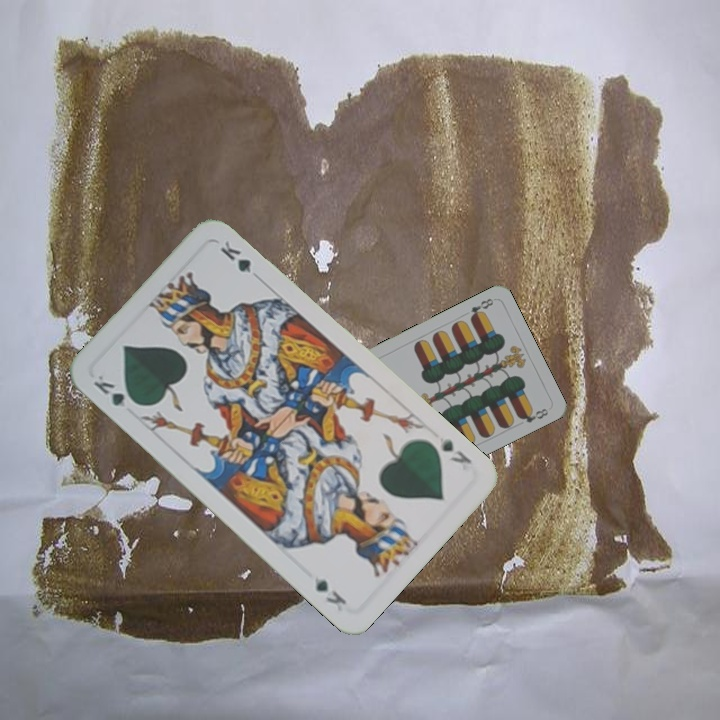E8: (466, 294, 496, 323)
GK: (89, 370, 142, 410), (436, 434, 475, 467)
